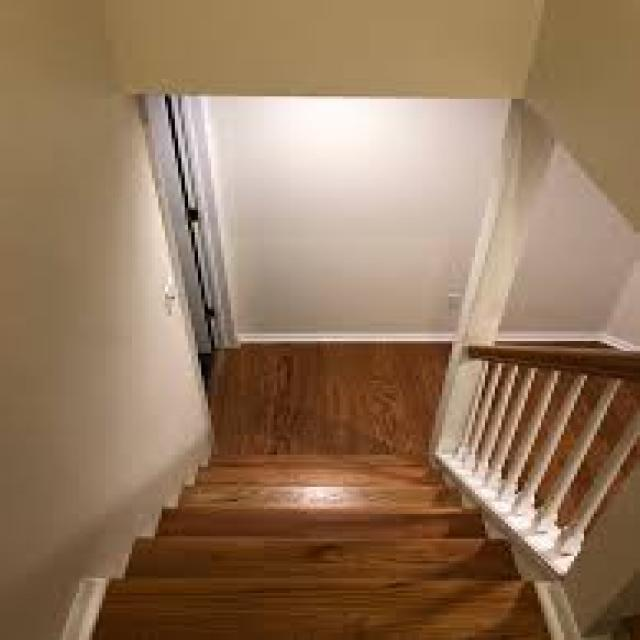stair: (40, 317, 640, 640)
